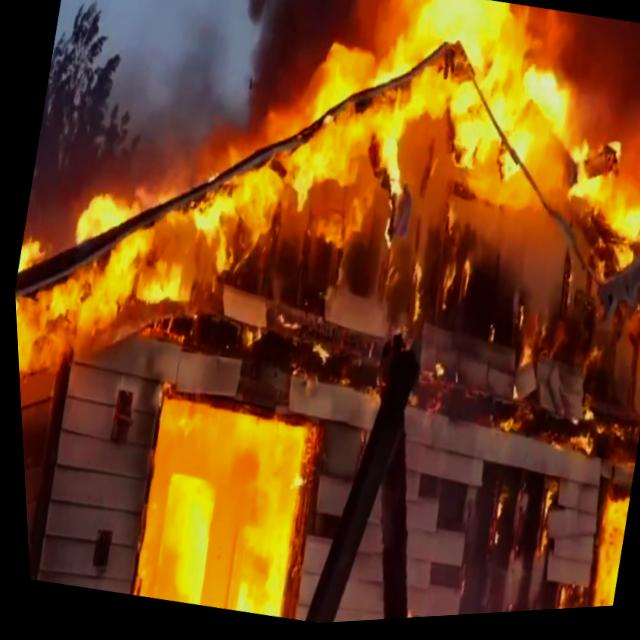fire: (367, 0, 581, 220), (127, 387, 318, 627), (542, 229, 640, 615)
